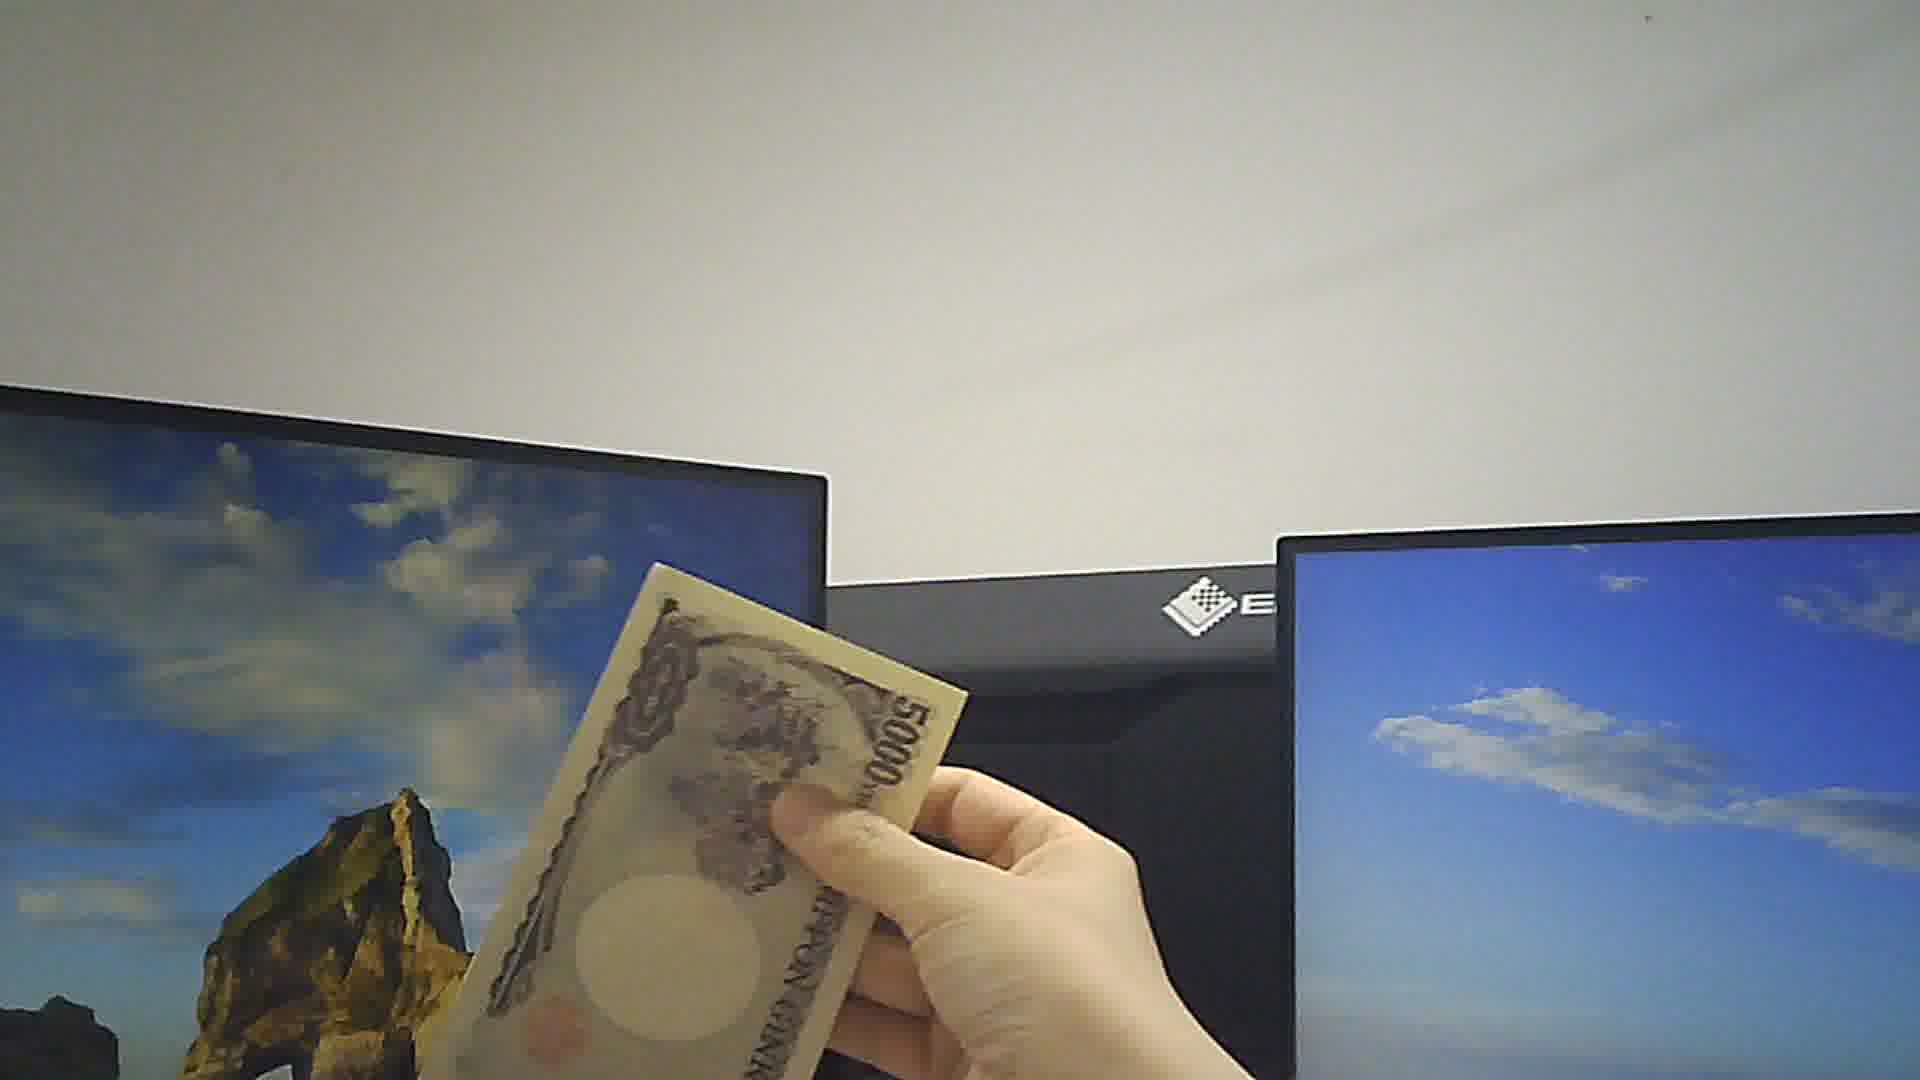5,000 Yen: (392, 545, 972, 1079)
